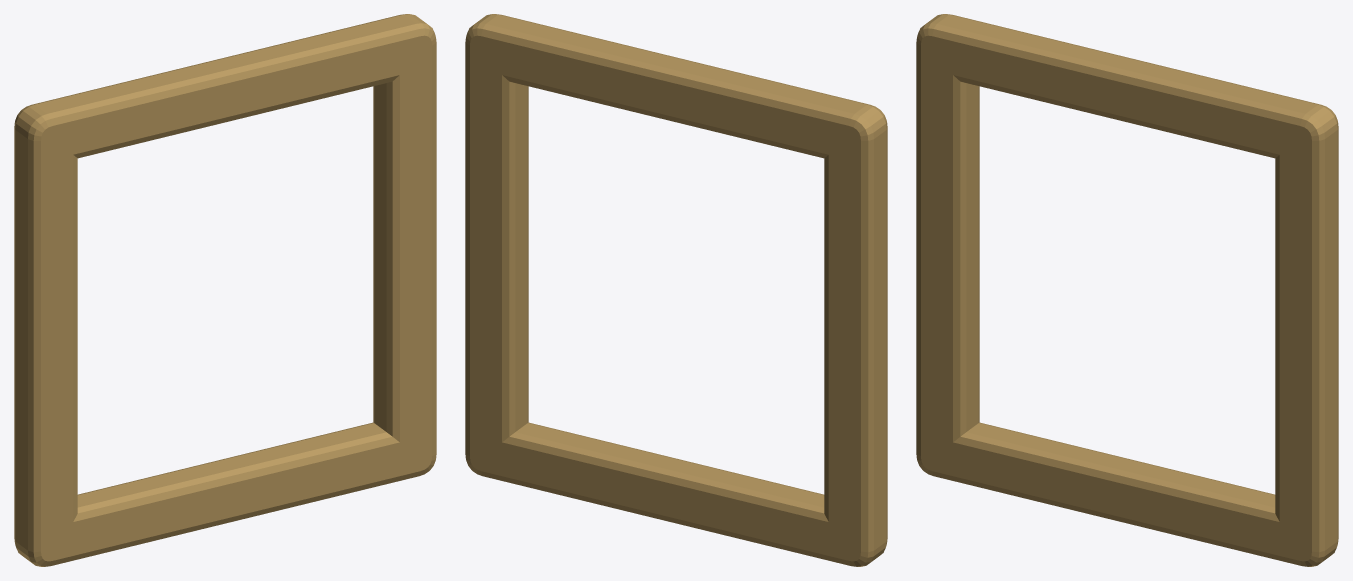
The model's file is empty_frame.glb.
The picture shows the model from 3 angles, left to right: view 1: azimuth 30°, elevation 25°; view 2: azimuth 150°, elevation 25°; view 3: azimuth 330°, elevation 25°; orthographic projection.
Parts seen in each view (by area): view 1: frame; view 2: frame; view 3: frame.
Part boxes in pixels (bbox=[...]): frame: bbox=[14, 14, 436, 566]; frame: bbox=[465, 14, 887, 566]; frame: bbox=[916, 14, 1338, 566].
Size of the model in its own units: 0.5 by 0.53 by 0.047.
